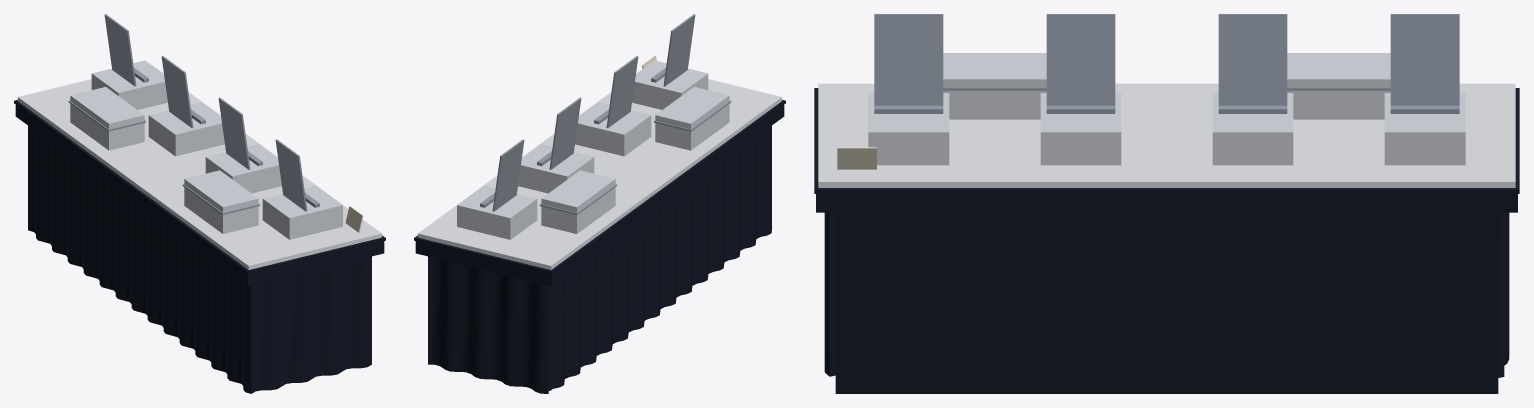
The model's file is table_wide.glb.
3 views of the same model, side by side, from view 1: azimuth 30°, elevation 25°; view 2: azimuth 150°, elevation 25°; view 3: azimuth 270°, elevation 25° (orthographic). The views are drawn at different scales.
Parts seen in each view (by area): view 1: skirt, product, top, trim; view 2: skirt, product, top, trim; view 3: skirt_front, top, product, trim, skirt, paper.
Part boxes in pixels (left/top/right/bottom): skirt: left=14, top=100, right=385, bottom=393; product: left=70, top=60, right=342, bottom=239; top: left=18, top=64, right=381, bottom=269; trim: left=68, top=14, right=319, bottom=214; skirt: left=414, top=100, right=785, bottom=393; product: left=457, top=60, right=729, bottom=239; top: left=418, top=69, right=781, bottom=269; trim: left=480, top=14, right=731, bottom=214; skirt_front: left=835, top=212, right=1498, bottom=393; top: left=818, top=83, right=1515, bottom=187; product: left=868, top=53, right=1465, bottom=165; trim: left=874, top=14, right=1459, bottom=113; skirt: left=814, top=88, right=1519, bottom=377; paper: left=837, top=147, right=876, bottom=169.
Bounding box in the file's own units: 2.8 × 4.27 × 8.2.
